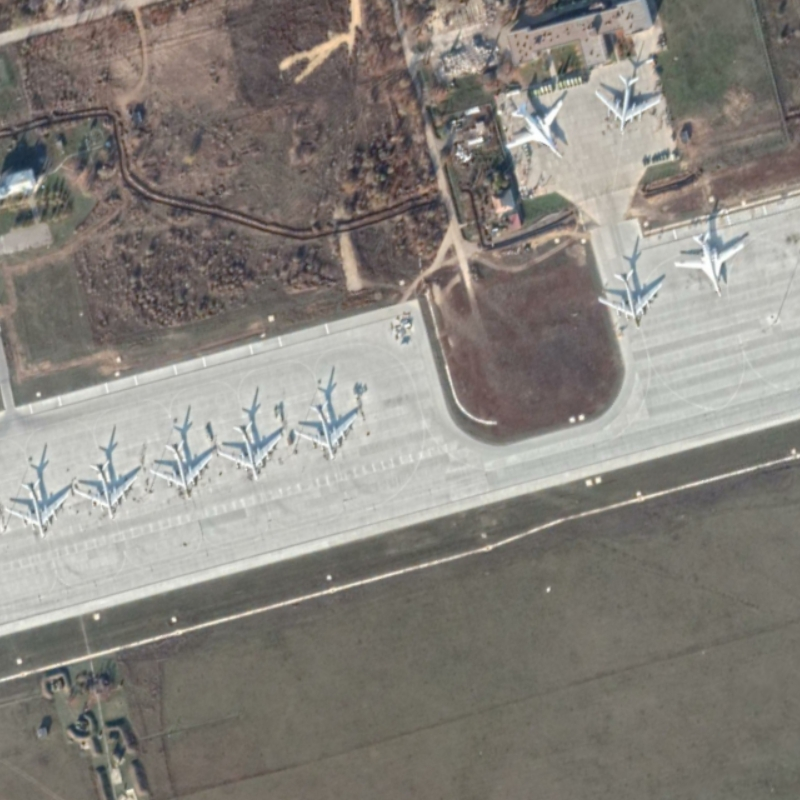A17: (591, 72, 667, 139), (213, 419, 289, 483), (72, 456, 144, 522), (294, 393, 362, 462), (2, 474, 73, 540), (593, 266, 667, 328), (148, 435, 216, 500)
A6: (670, 228, 750, 303), (499, 98, 569, 161)
